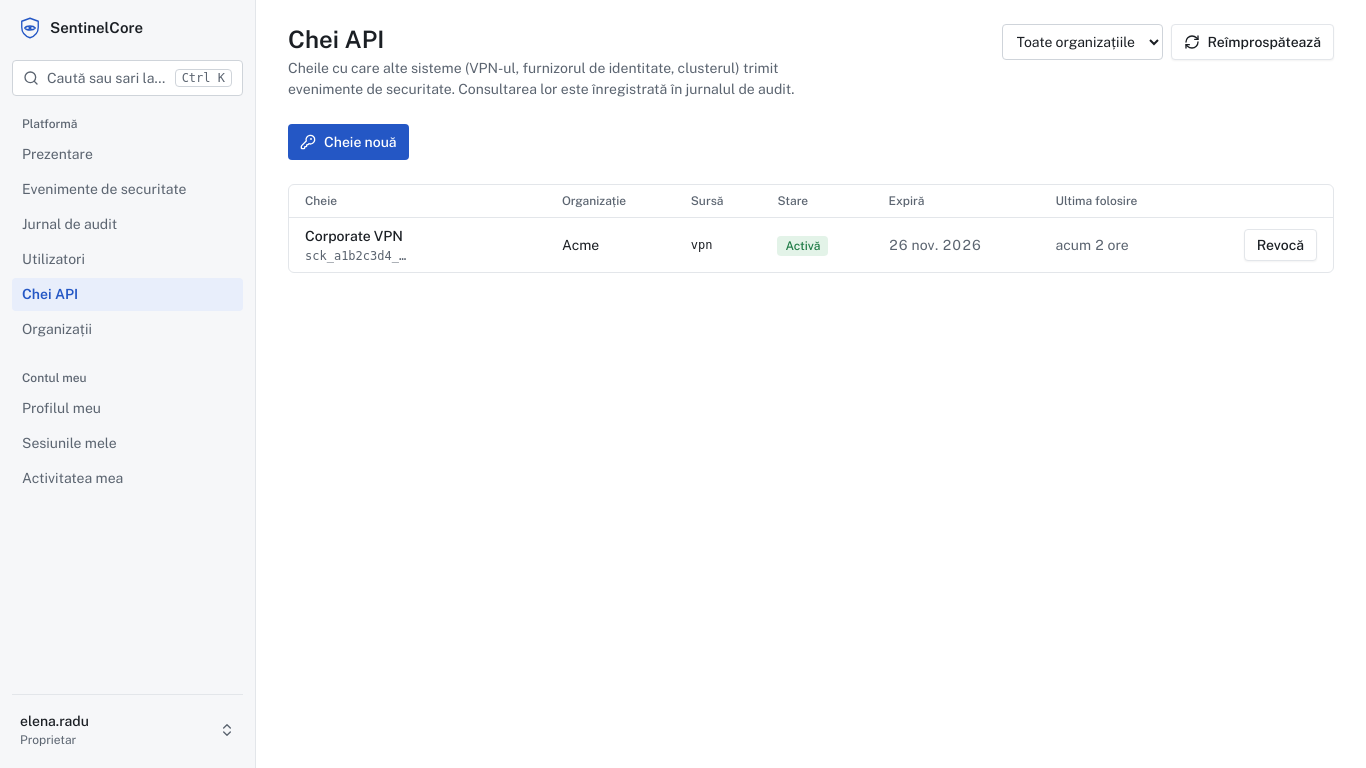
Test case: organization API keys page › explains a refused key and keeps the form
The image size is (1366, 768).
Click the button "Cheie nouă".
click(348, 142)  # box [288,124,409,160]
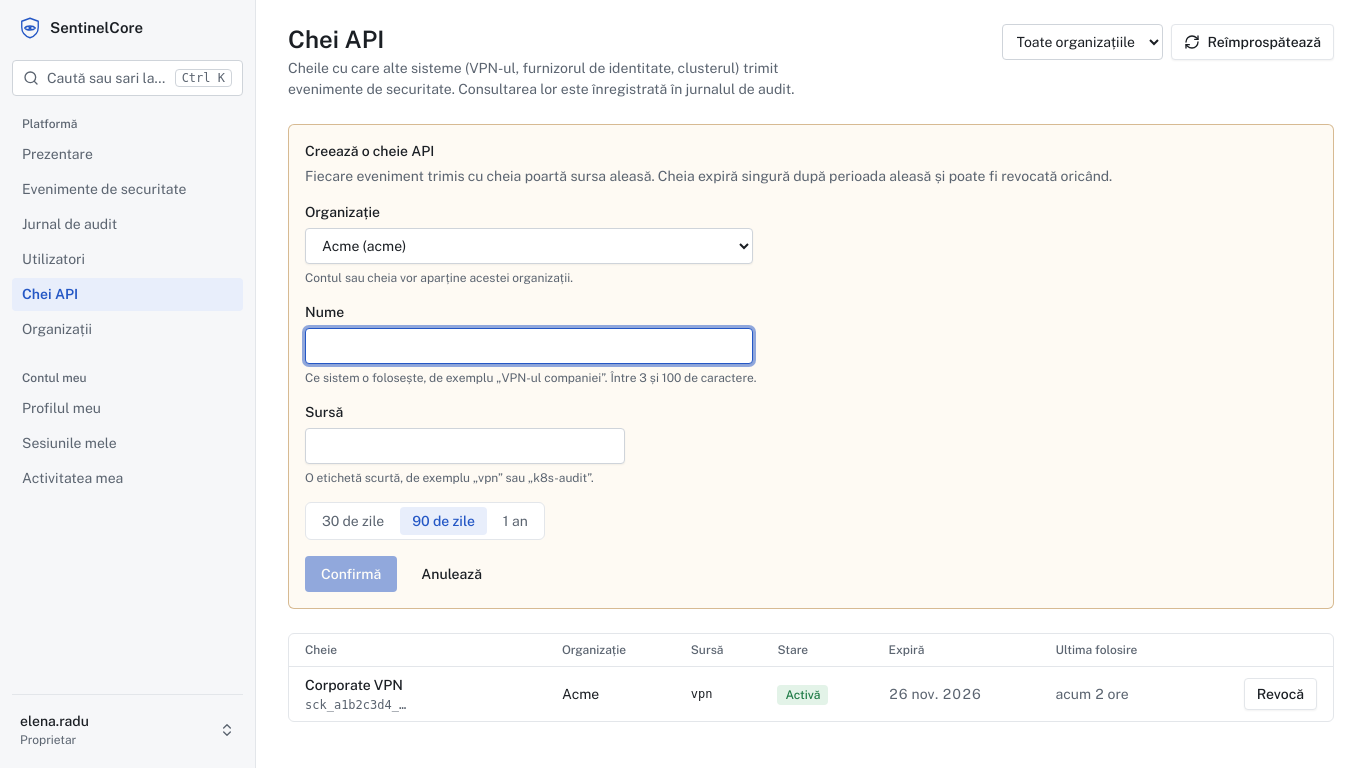
Type "Okta" into the field labelled "Nume".
click(529, 346); type("Okta")  # box [305,328,753,364]
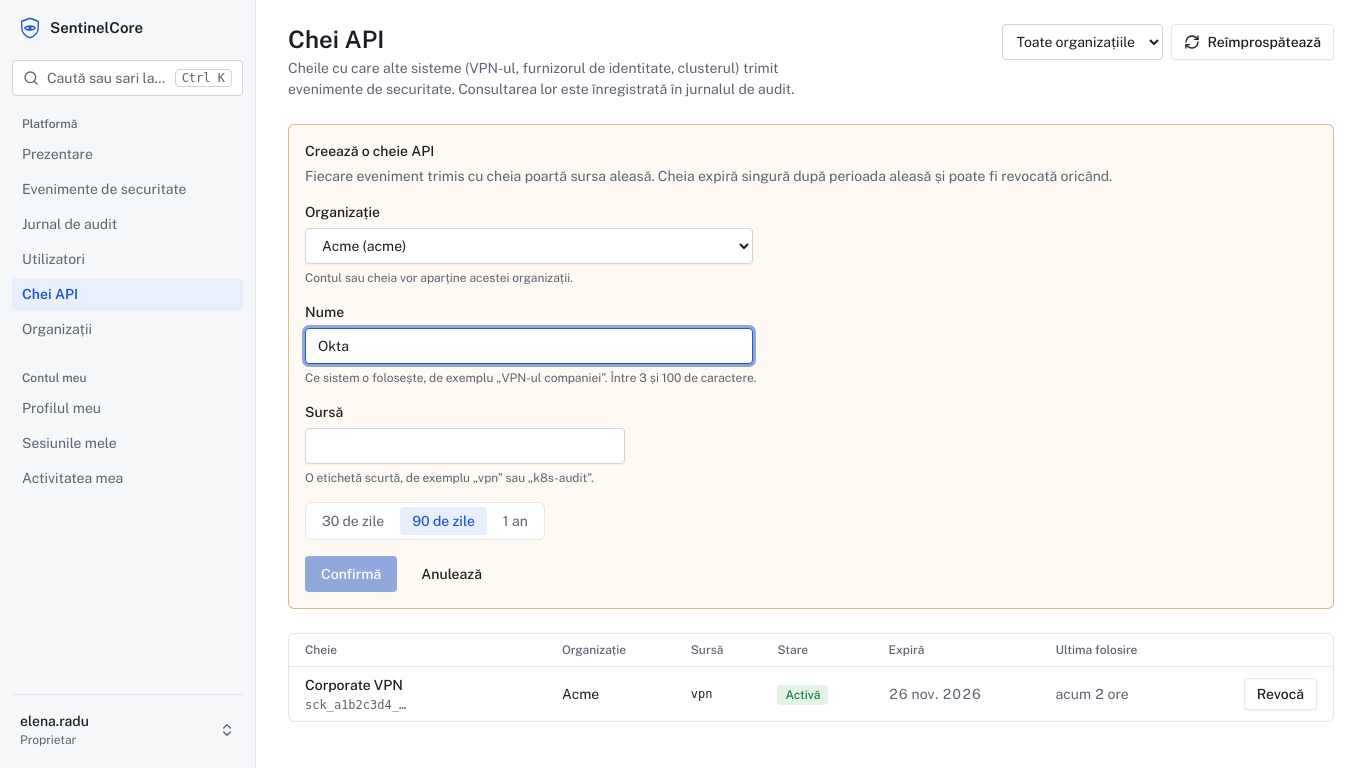
Type "okta" into the field labelled "Sursă".
click(465, 446); type("okta")  # box [305,428,625,464]
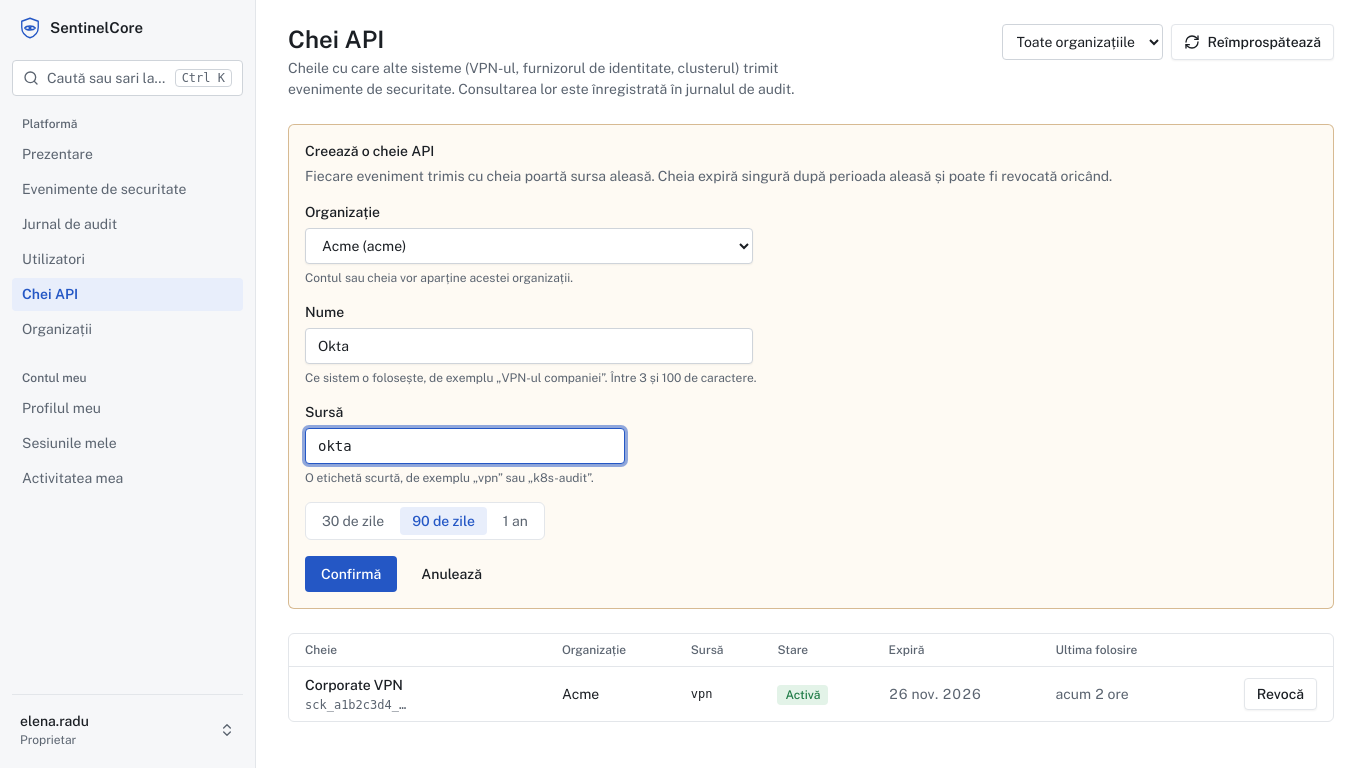
Click the button "Confirmă".
click(351, 574)  # box [305,556,397,592]
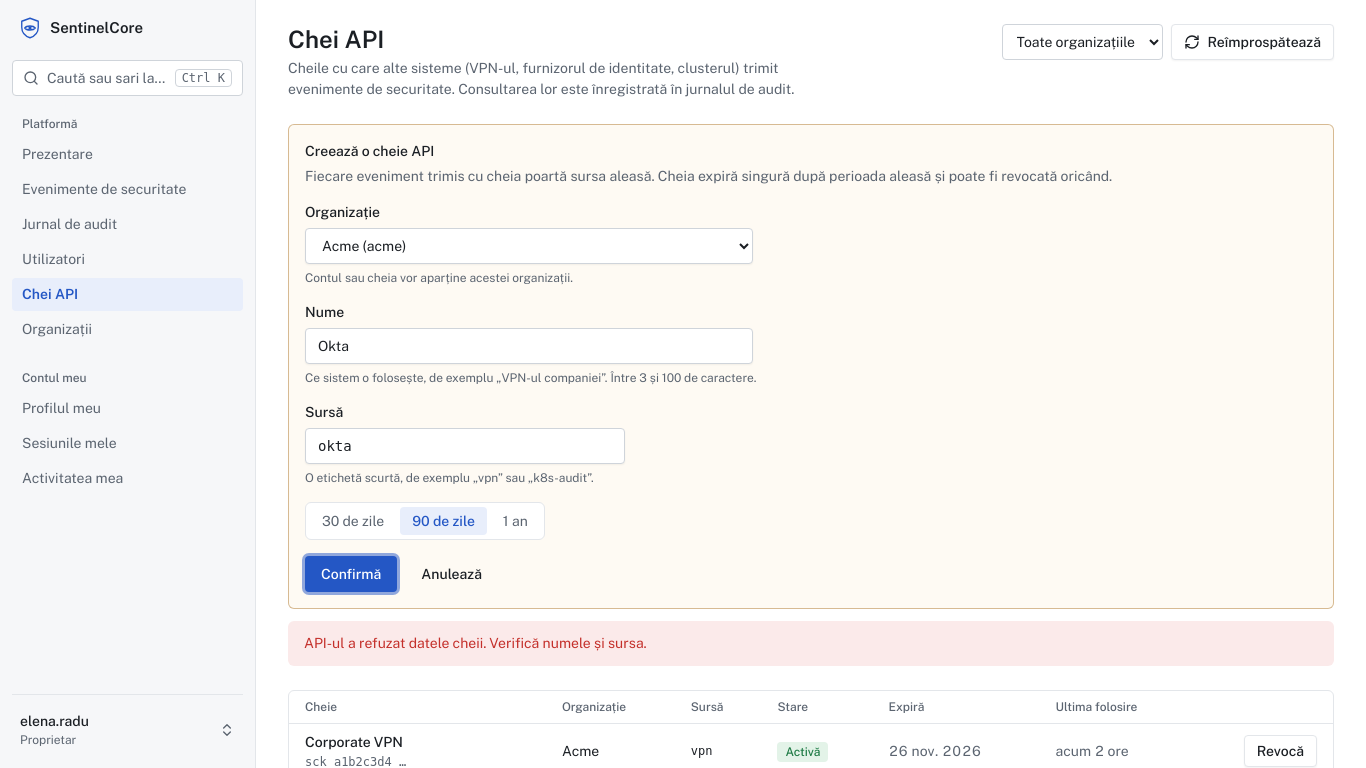
Expected: the form "Creează o cheie API" is shown, [288,124,1334,609]
Expected: the message shows "API-ul a refuzat datele cheii", [304,635,647,651]
